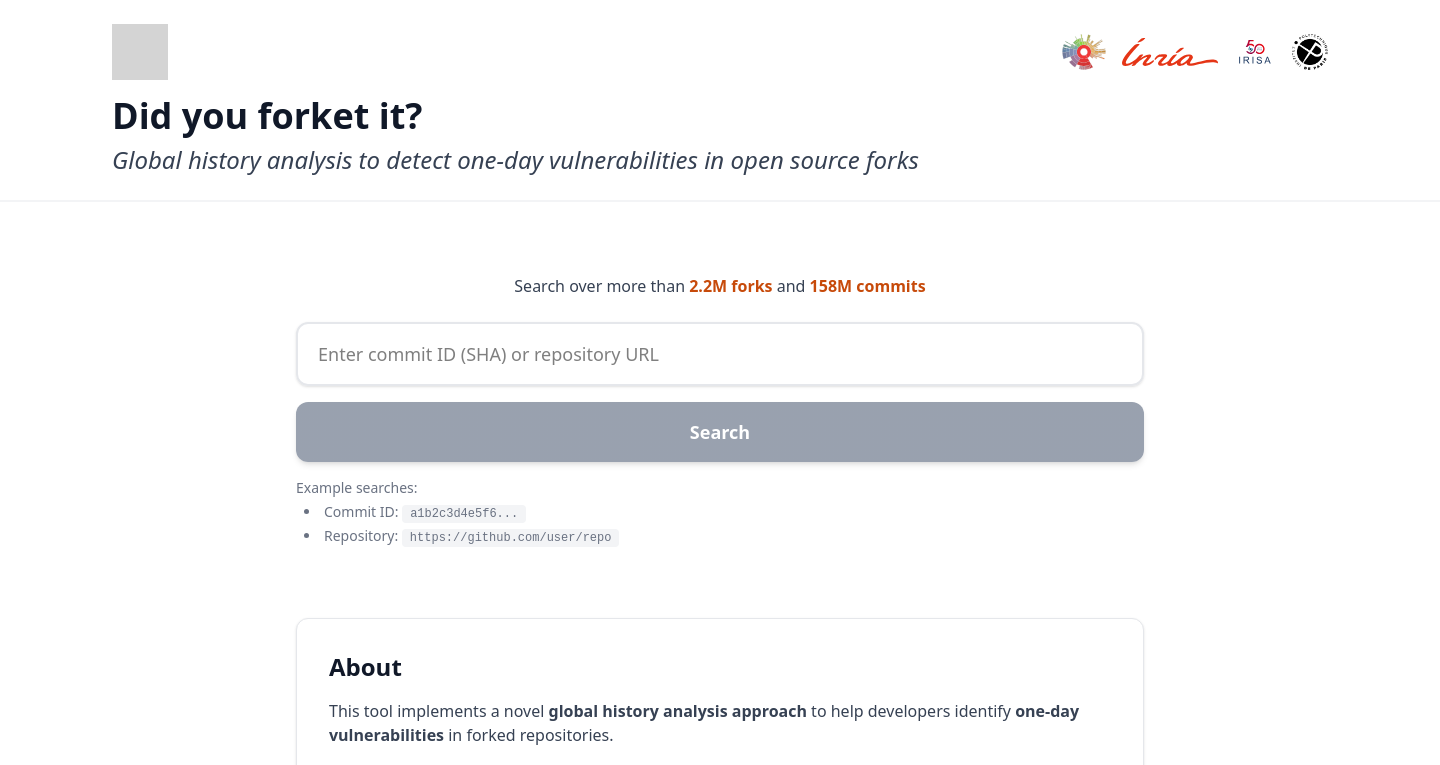
App - Consecutive Search Tests › should clear previous results when performing a new search
The image size is (1440, 765).
Type "aaaaaaaaaaaaaaaaaaaaaaaaaaaaaaaaaaaaaaaa" into the field named "search by commit id or repository url". click: (720, 354)
box: [296,322,1144,386]
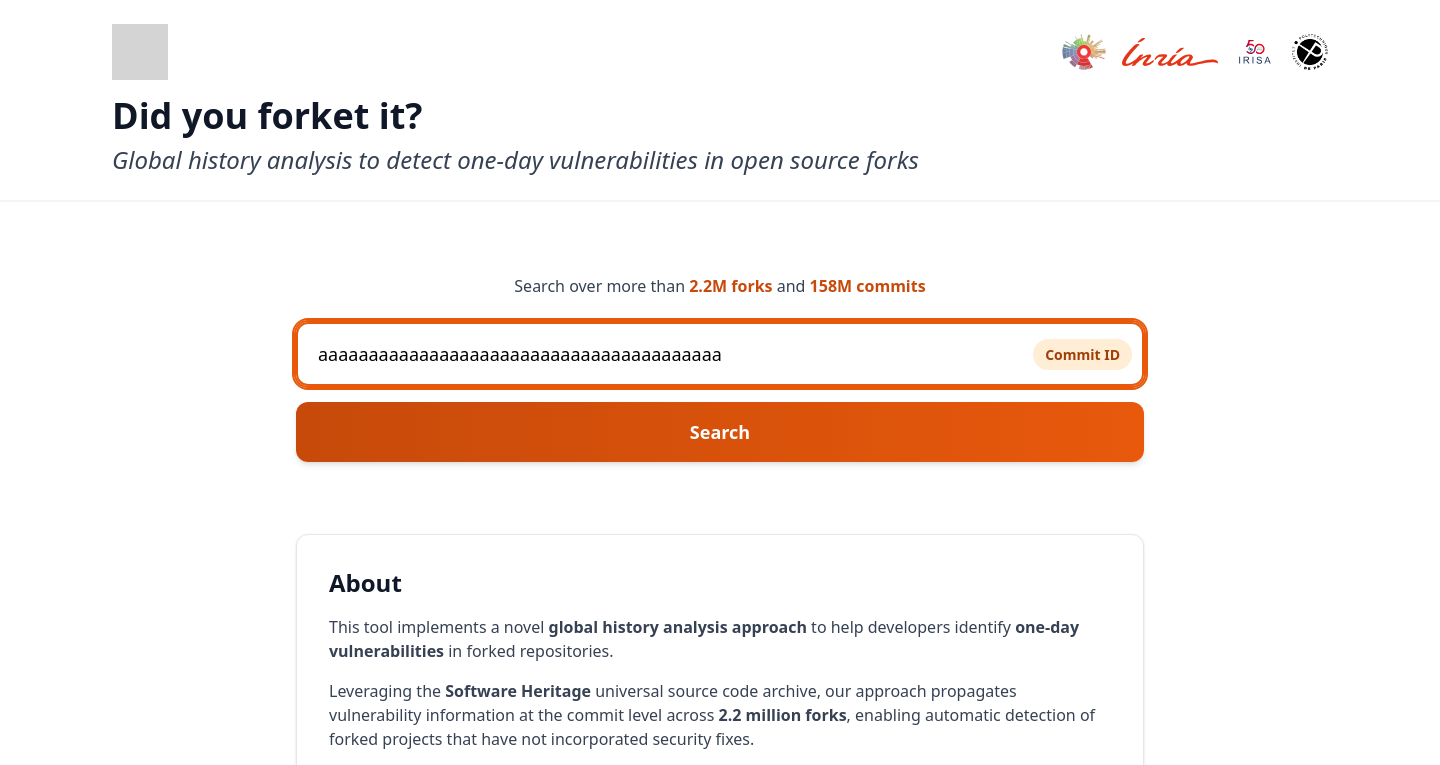
Click the button with aria-label "execute vulnerability search". click: (720, 432)
box: [296,402,1144,462]
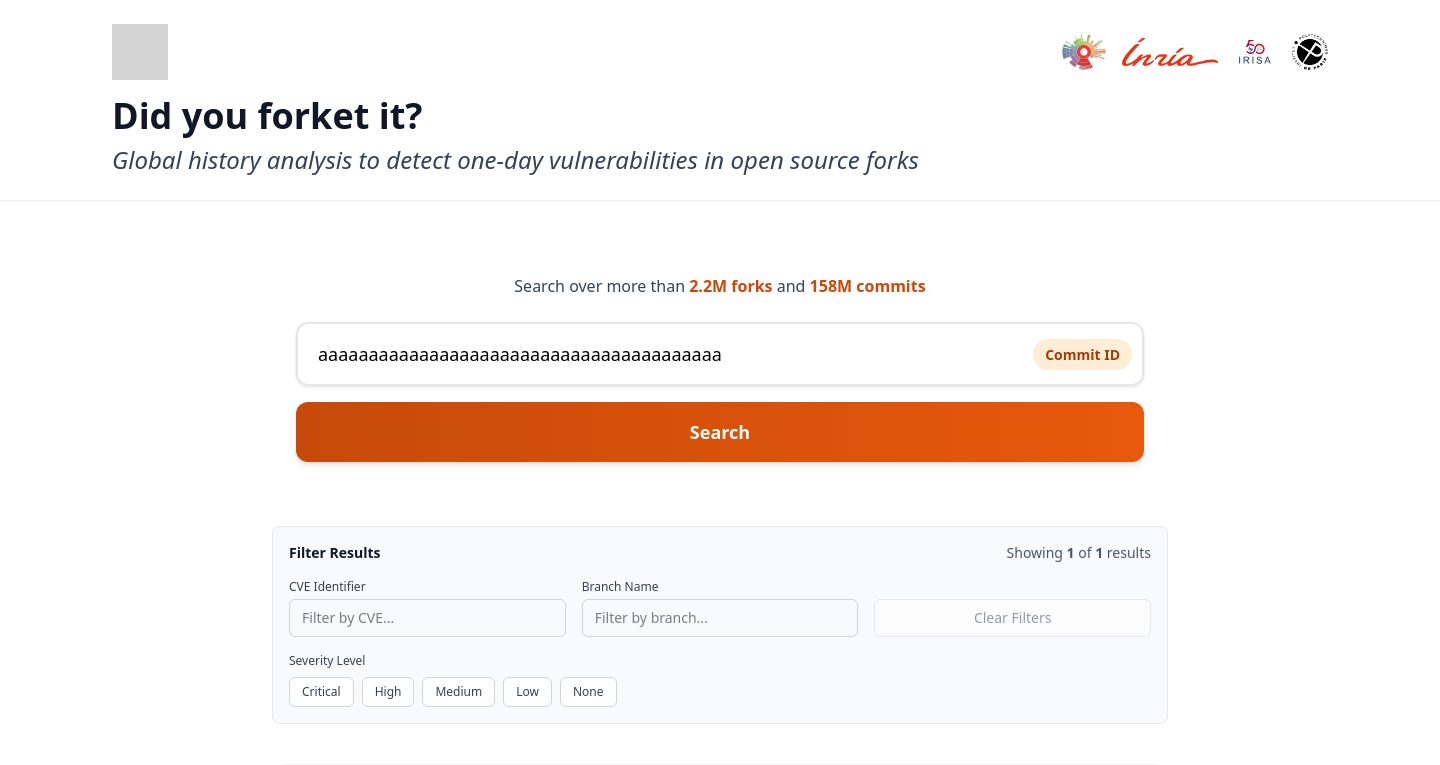
Expected: the text "CVE-2022-5678" is not shown
Clear input and perform second search
Replace the text in the field named "search by commit id or repository url" with "bbbbbbbbbbbbbbbbbbbbbbbbbbbbbbbbbbbbbbbb". click: (720, 354)
box: [296,322,1144,386]
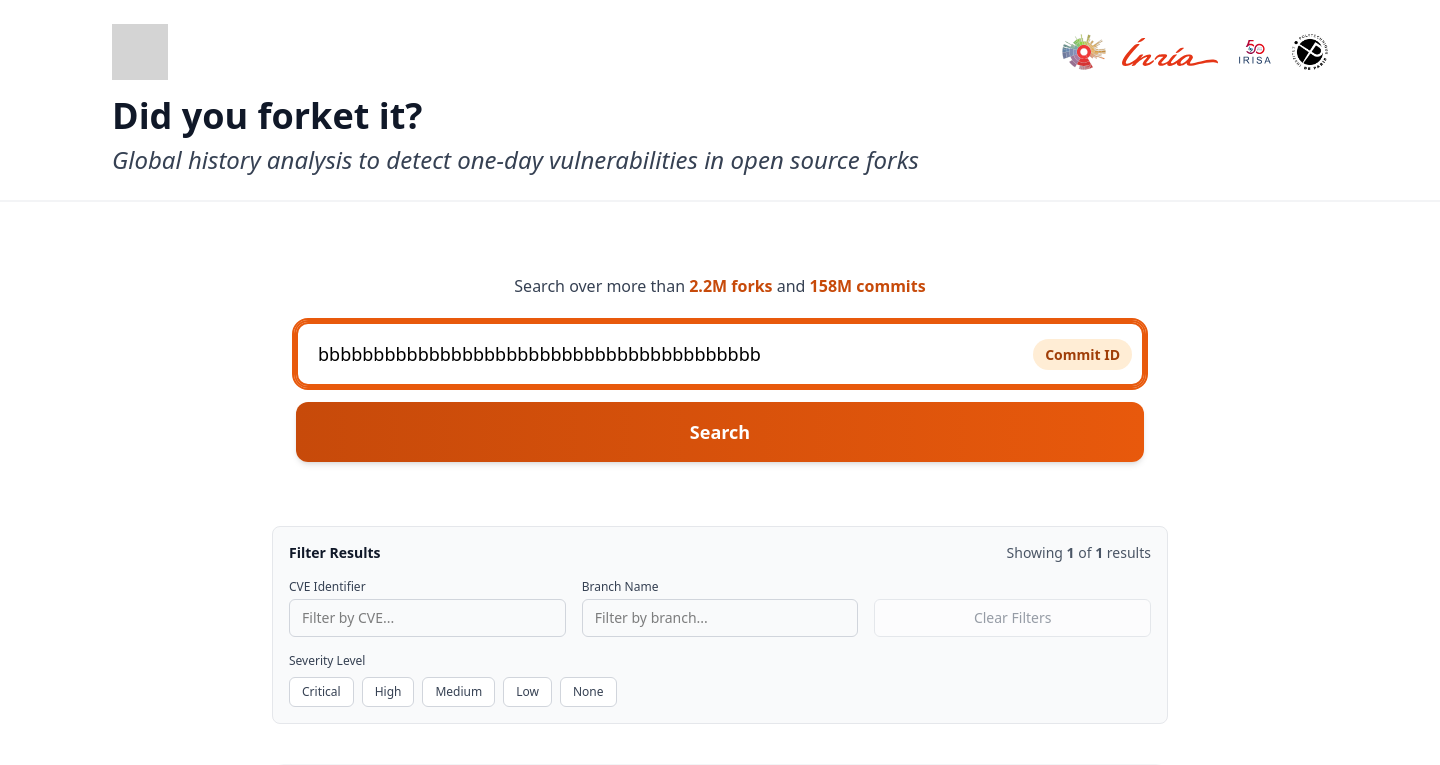
Click the button with aria-label "execute vulnerability search". click: (720, 432)
box: [296,402,1144,462]
(page scrolled)
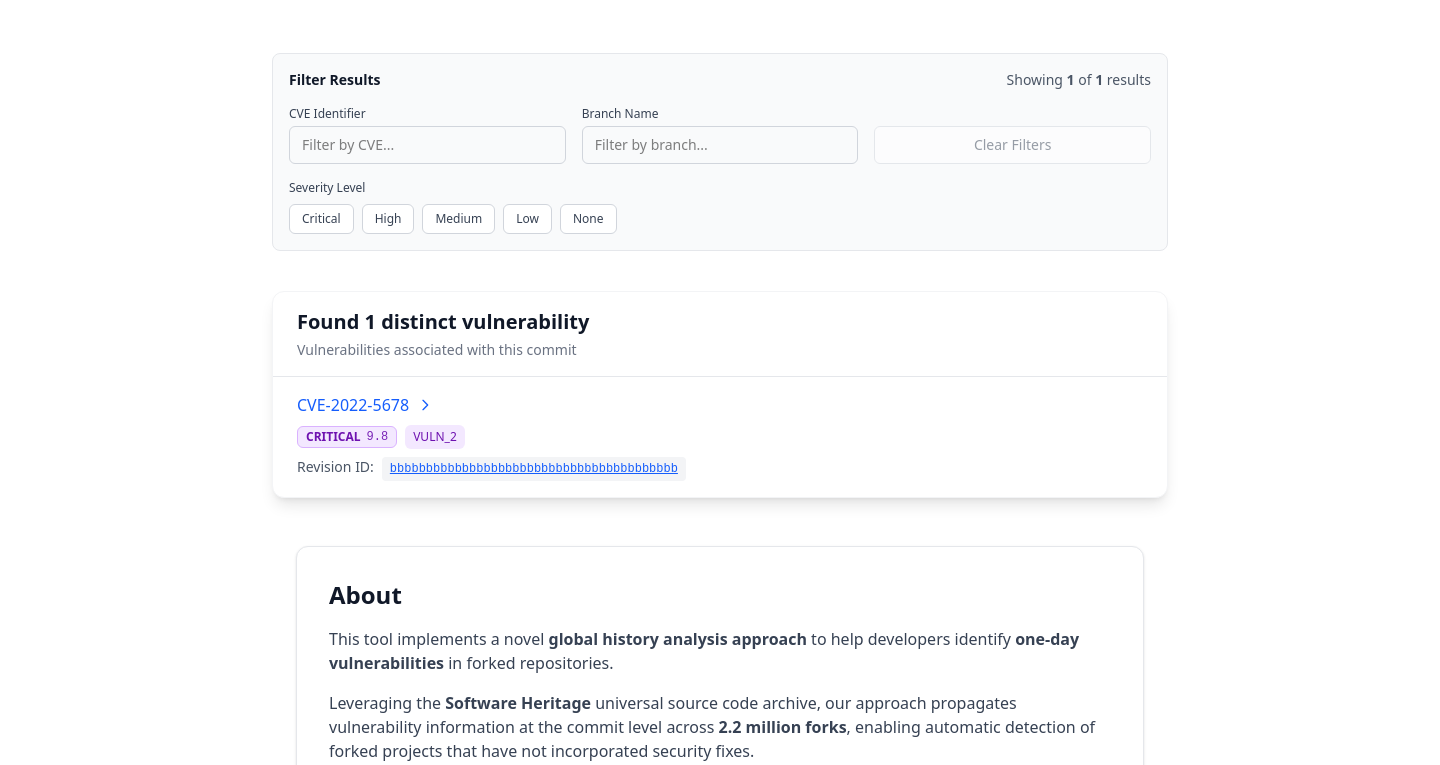
Expected: the text "CVE-2022-5678" is shown, [297,393,409,417]
